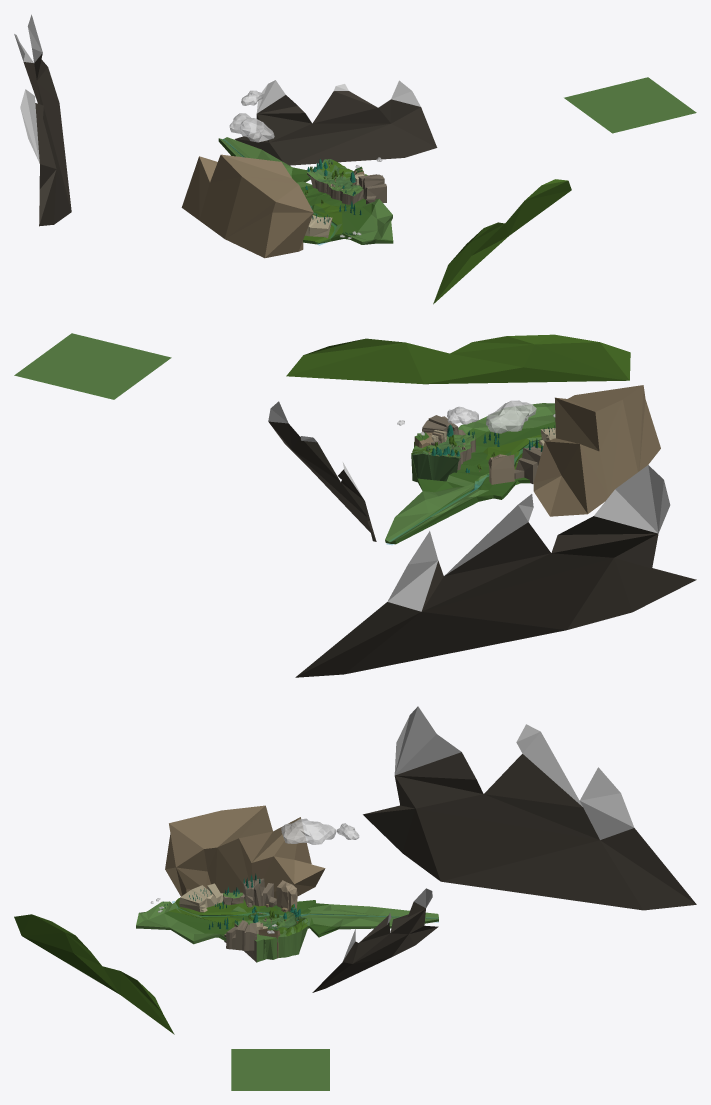
The model's file is Environment_ShadowsBaked.dae.
The picture shows the model from 3 angles, top to bottom: view 1: azimuth 30°, elevation 25°; view 2: azimuth 150°, elevation 25°; view 3: azimuth 270°, elevation 25°; orthographic projection. The views are drawn at different scales.
Visible parts, largest first — view 1: Plane_003, Cube_087, Plane_002, Cube_020, Plane, Plane_005, Cube_003, Mball_005, Cube_008, Cube_018; view 2: Plane_002, Plane_005, Cube_087, Cube_020, Plane, Plane_003, Cube_003, Mball_005, Cube_010, Cube_012; view 3: Plane_002, Cube_087, Cube_020, Plane, Plane_005, Plane_003, Cube_003, Mball_005, Cube_018, Cube_008, Cube_012.
Part boxes in pixels (<box>): Plane_003: <box>234,80,437,165</box>; Cube_087: <box>181,154,313,258</box>; Plane_002: <box>14,14,71,226</box>; Cube_020: <box>218,137,393,244</box>; Plane: <box>564,77,696,133</box>; Plane_005: <box>433,179,571,304</box>; Cube_003: <box>307,159,367,204</box>; Mball_005: <box>229,113,274,142</box>; Cube_008: <box>358,174,386,203</box>; Cube_018: <box>305,215,332,238</box>; Plane_002: <box>295,465,696,677</box>; Plane_005: <box>286,334,630,384</box>; Cube_087: <box>533,385,660,516</box>; Cube_020: <box>385,403,555,544</box>; Plane: <box>14,333,171,399</box>; Plane_003: <box>268,401,376,541</box>; Cube_003: <box>411,433,475,482</box>; Mball_005: <box>486,400,536,433</box>; Cube_010: <box>488,454,514,486</box>; Cube_012: <box>514,445,541,483</box>; Plane_002: <box>363,706,696,910</box>; Cube_087: <box>165,805,325,898</box>; Cube_020: <box>136,898,438,944</box>; Plane: <box>231,1049,329,1090</box>; Plane_005: <box>14,914,174,1034</box>; Plane_003: <box>312,888,438,992</box>; Cube_003: <box>234,909,309,962</box>; Mball_005: <box>281,818,336,844</box>; Cube_018: <box>179,883,229,912</box>; Cube_008: <box>224,920,256,950</box>; Cube_012: <box>243,878,276,907</box>.
Size of the model in its own units: 588 by 580 by 142.
